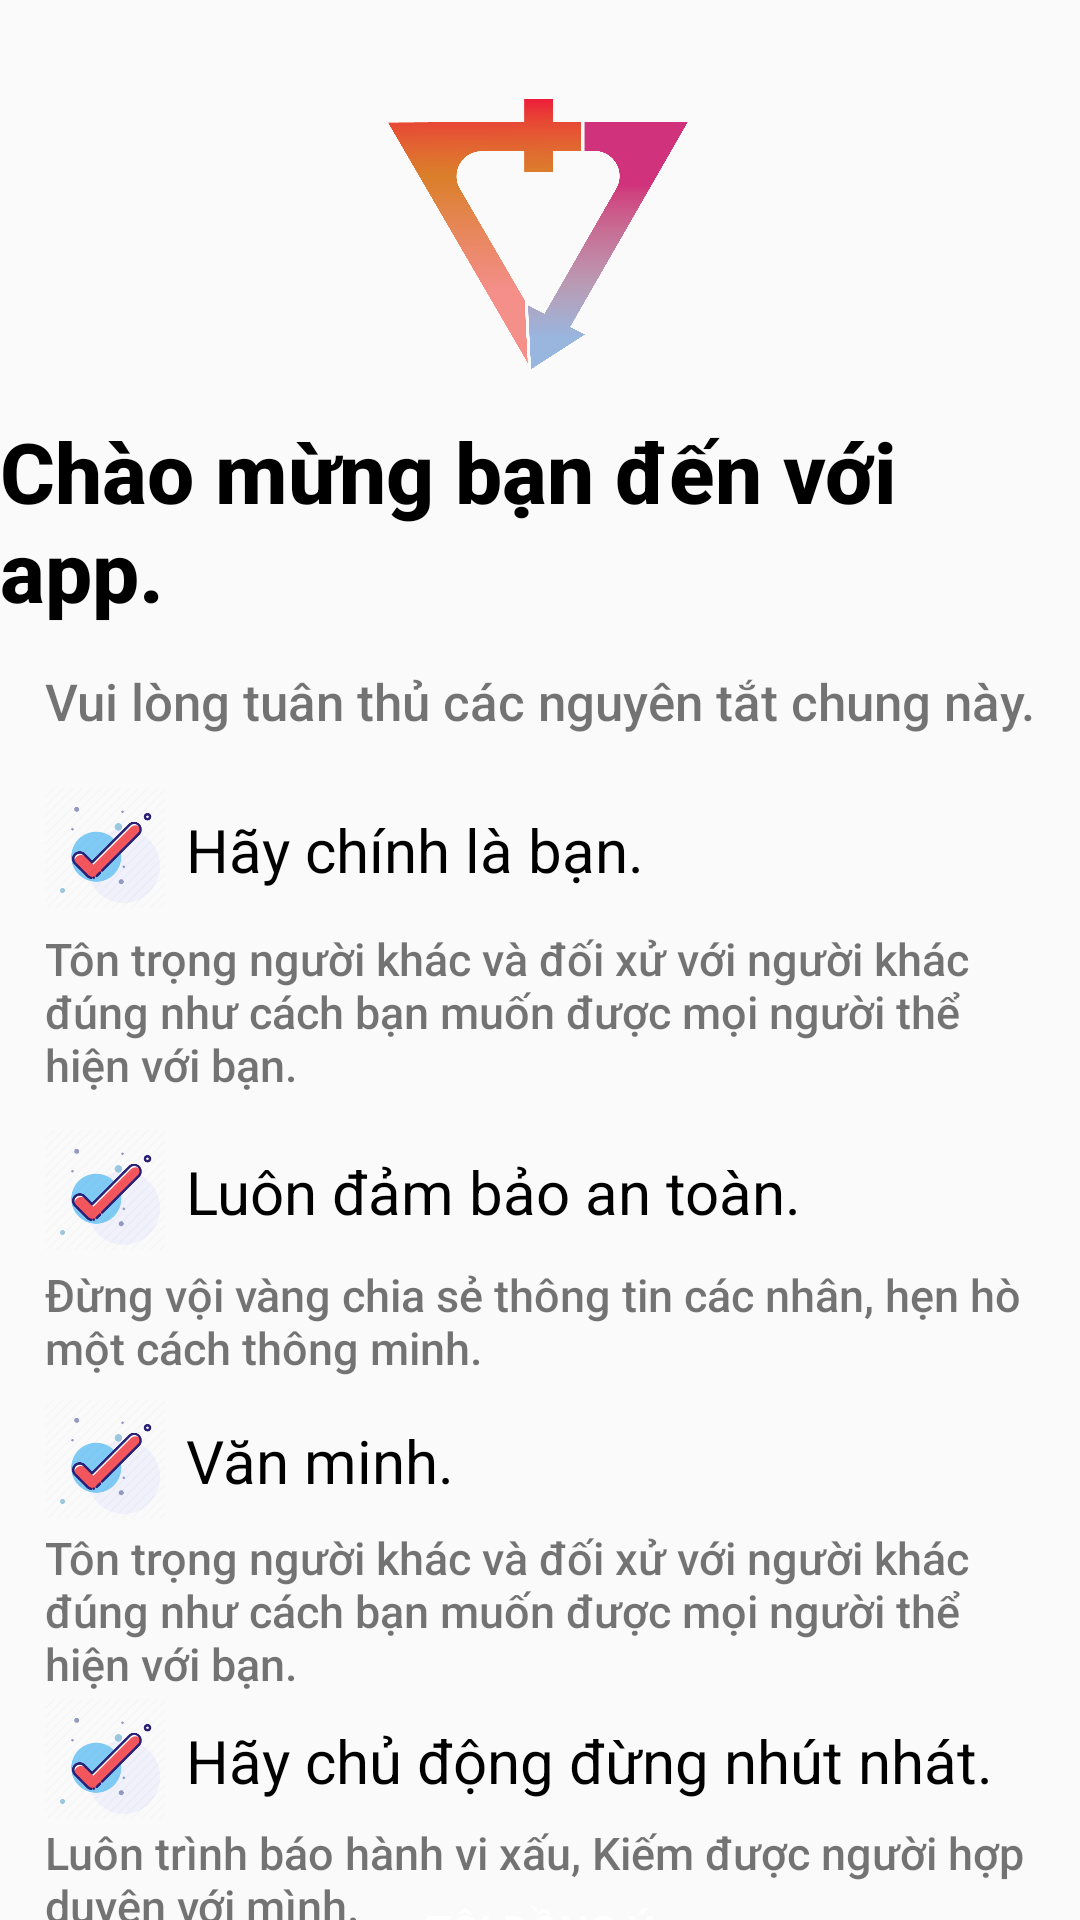

Screen size 1080 × 1920. Icon name, then its box in pixels as (x1, y1, x2, y2):
dau tich: (60, 807, 152, 893), (60, 1149, 152, 1235), (60, 1418, 152, 1504), (60, 1718, 152, 1804)
